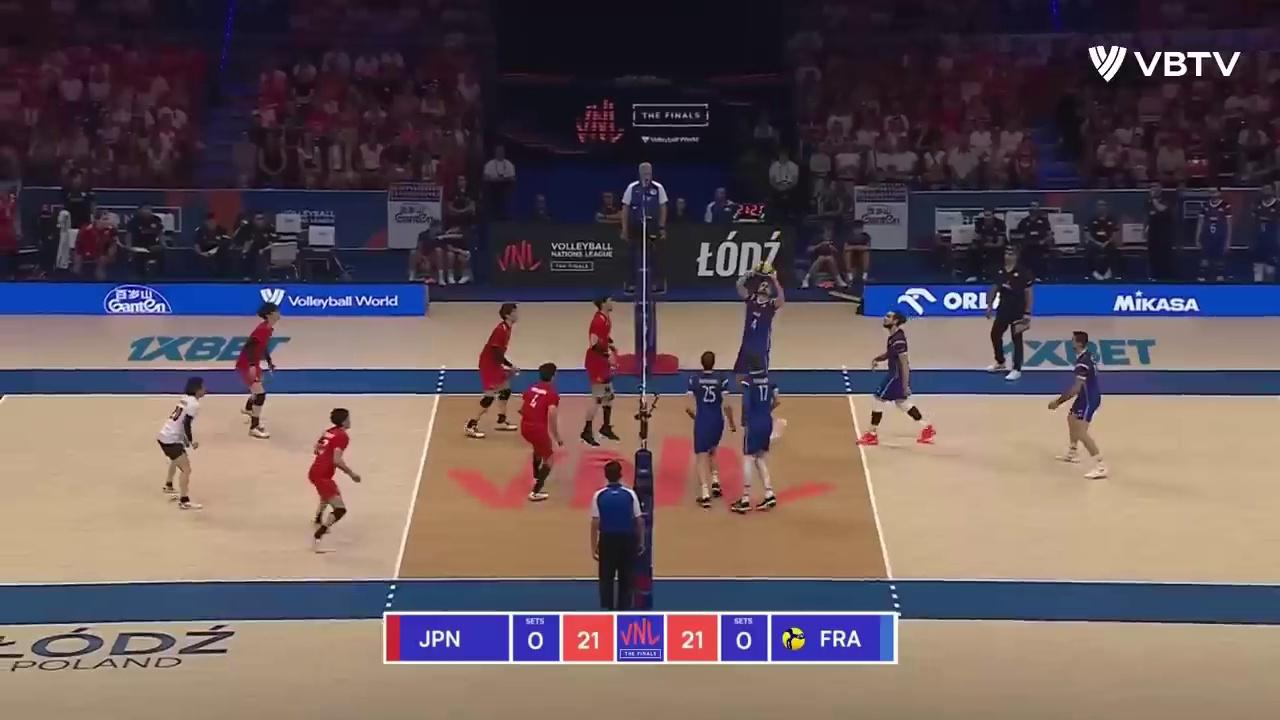ball: (758, 259, 772, 277)
